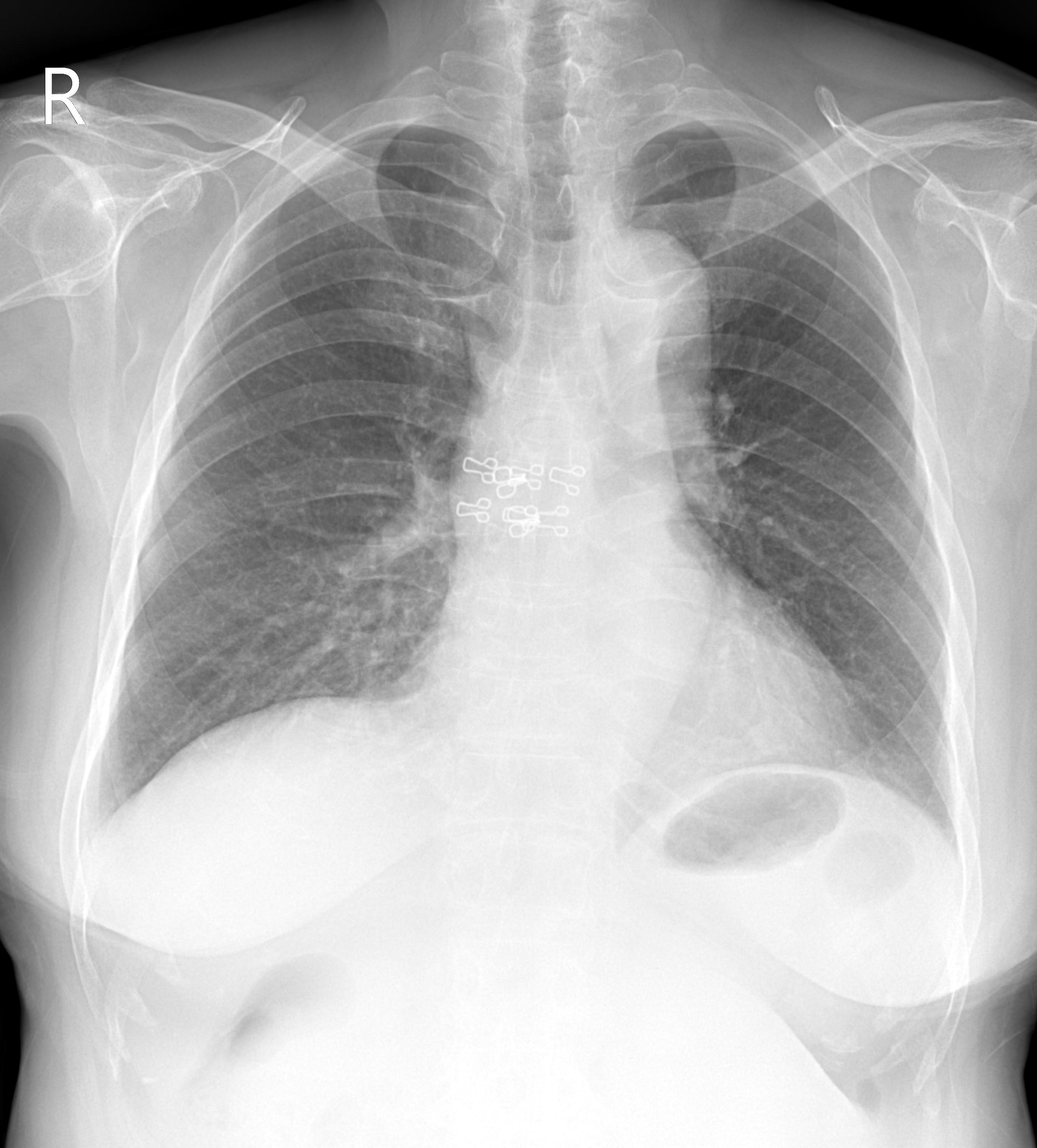Aortic enlargement: (573, 228, 712, 359)
Pleural thickening: (665, 119, 774, 134)
